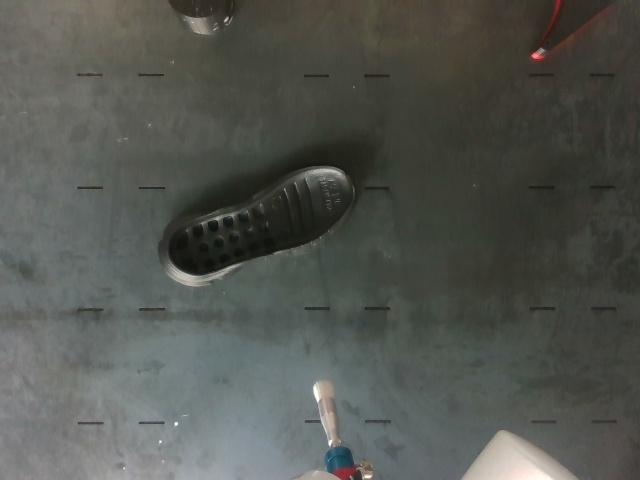shoes: (168, 170, 353, 276)
